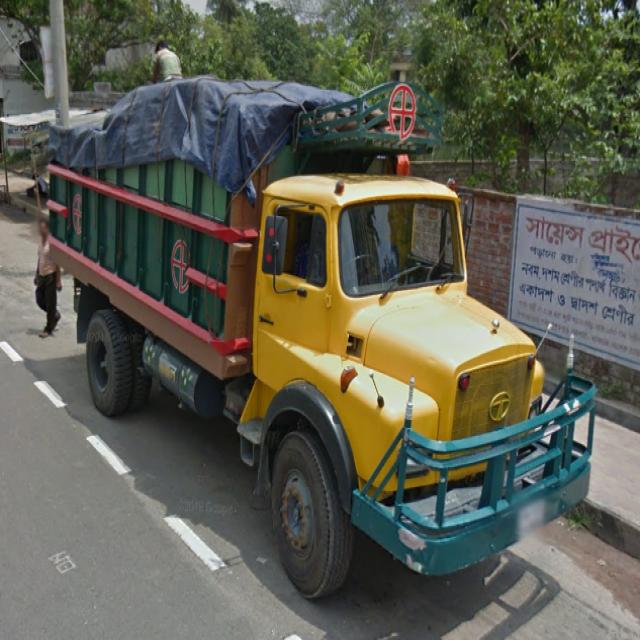truck: (45, 73, 597, 602)
